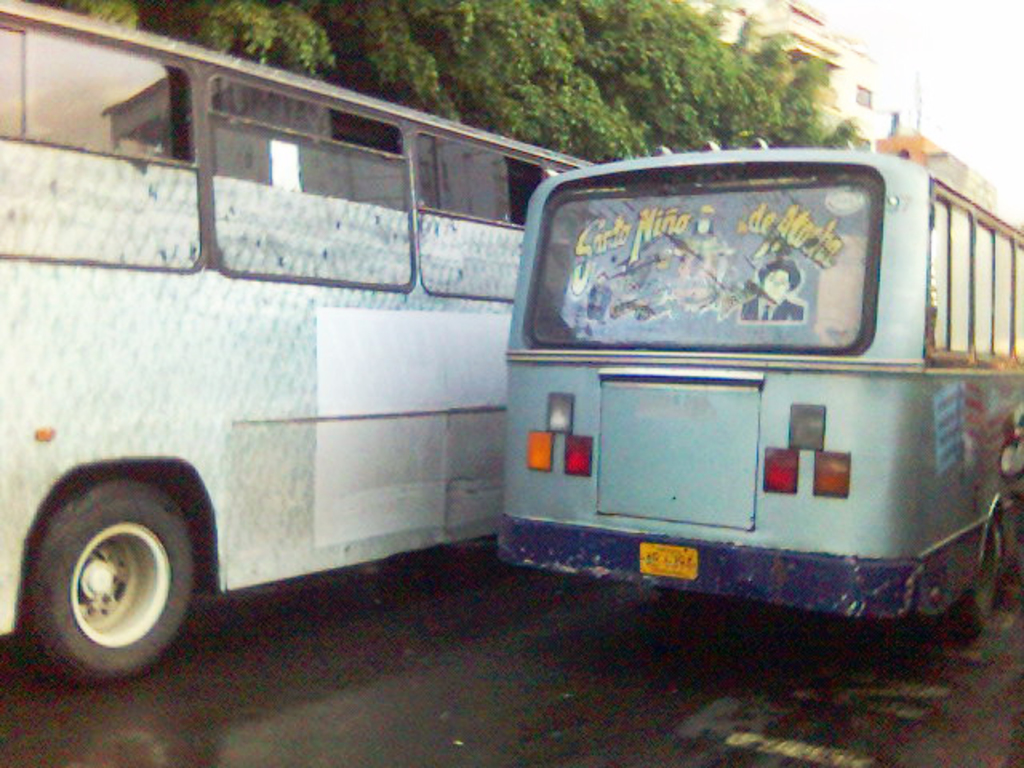Bus: (0, 0, 597, 689), (493, 138, 1024, 648)
